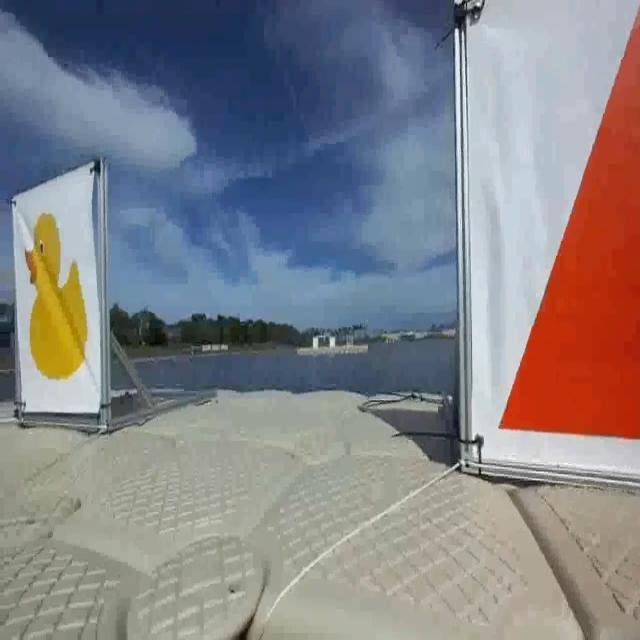red-dot: (463, 0, 640, 494)
yellow-duck: (23, 210, 90, 380)
